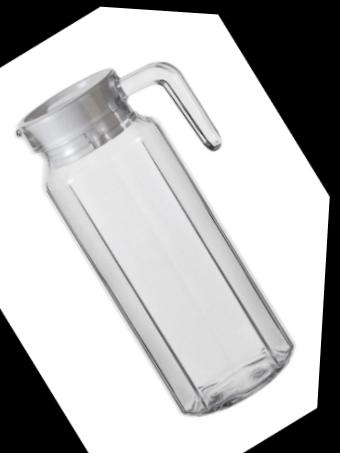glass: (0, 12, 339, 453)
